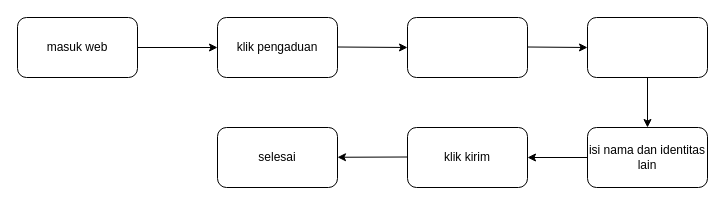
This 725x205 diagram has some shape labels left out. Each missing label, with the centre of its shape:
"ajukan pengaduan" belongs at (x=647, y=47).
"baca persyaratan pengaduan" belongs at (x=467, y=47).
